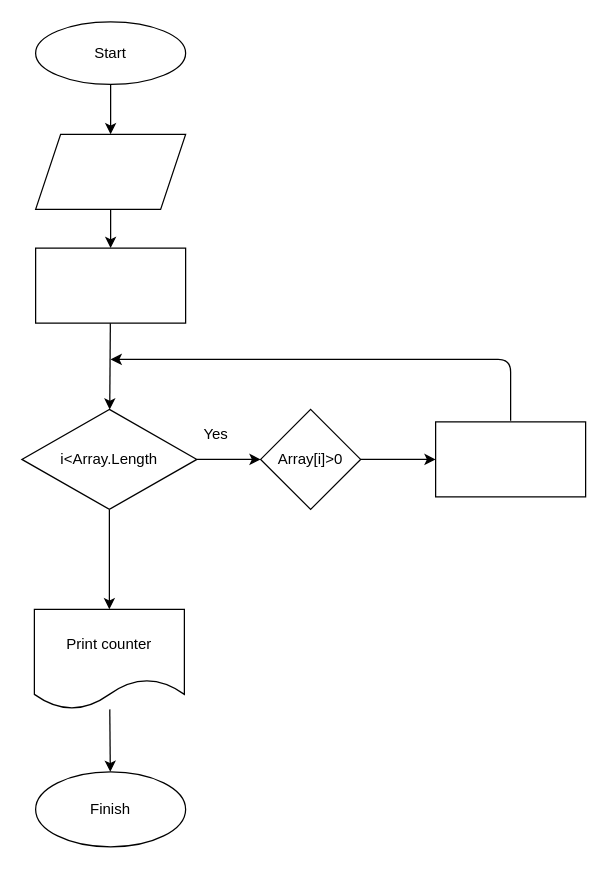
This 608x869 diagram has some shape labels left out. Each missing label, with the centre of its shape:
counter++: point (510, 459)
counter=0. i=0: point (110, 285)
Input M Input Array: point (110, 171)
